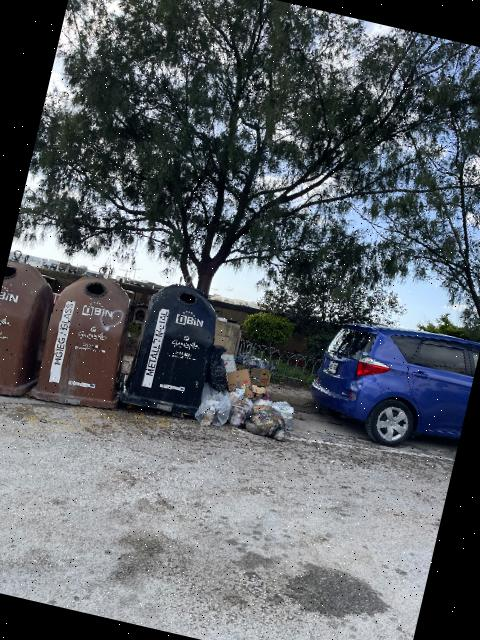Mixed -Black-: (205, 345, 236, 395)
Other: (225, 369, 253, 397), (229, 397, 252, 426), (249, 367, 270, 386)
Recyclable -Grey-: (245, 404, 286, 440), (235, 352, 274, 369)
